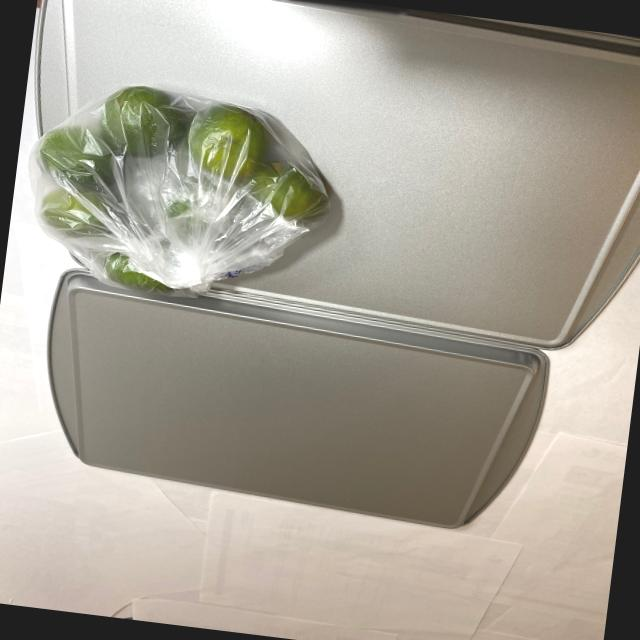lemon: (23, 73, 336, 318)
